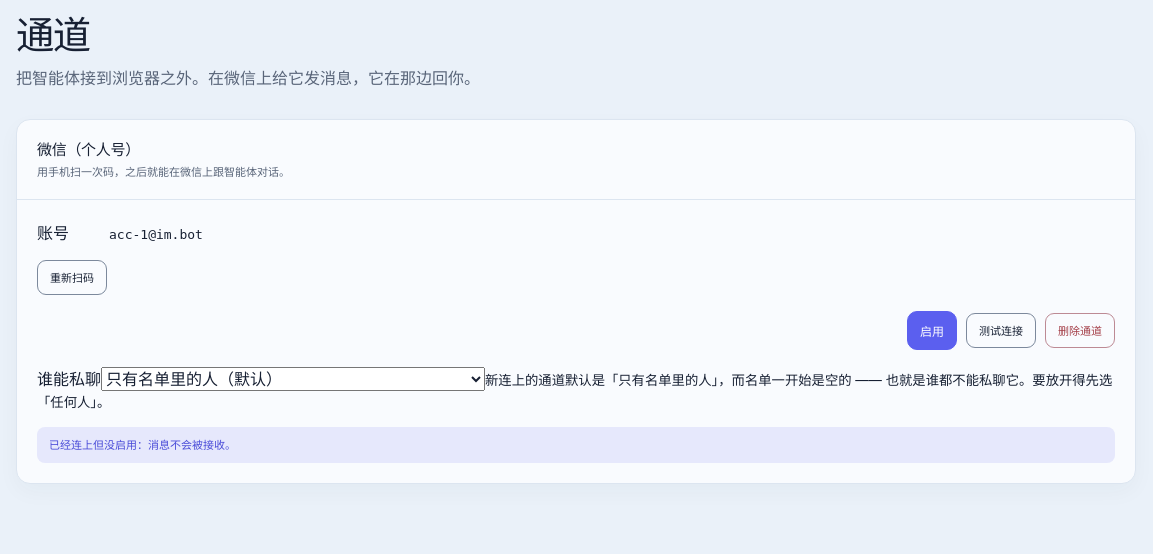
Test: 通道页 › 测试不通过时显示服务端给的原因（ok:false 不是操作出错）
Click the button "测试连接".
click(1001, 330)  # box 966,313 -> 1036,348
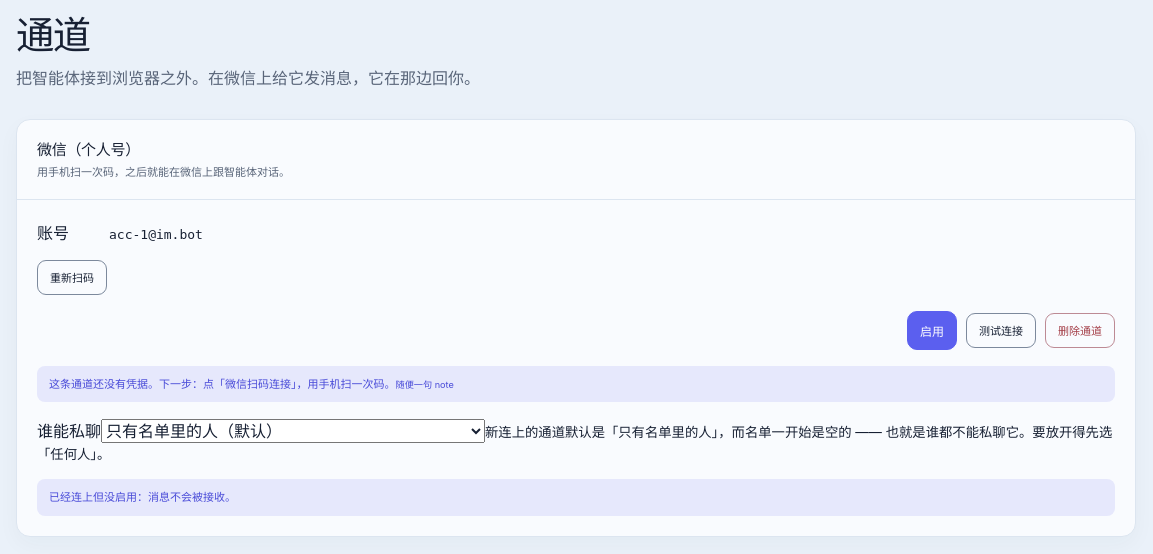
Expected: the text "这条通道还没有凭据。下一步：点「微信扫码连接」，用手机扫一次码。随便一句 note" is shown, 37,366 -> 1115,402
